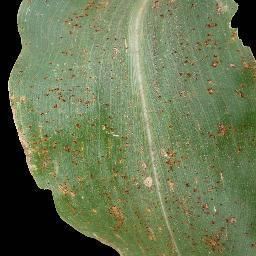Corn_Common_Rust: (9, 0, 151, 256), (150, 0, 256, 256)
